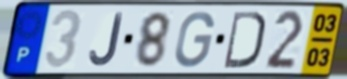2: (264, 8, 307, 72)
3: (43, 8, 86, 72)
8: (134, 10, 174, 70)
D: (222, 9, 267, 70)
G: (172, 10, 216, 70)
J: (88, 11, 125, 68)
